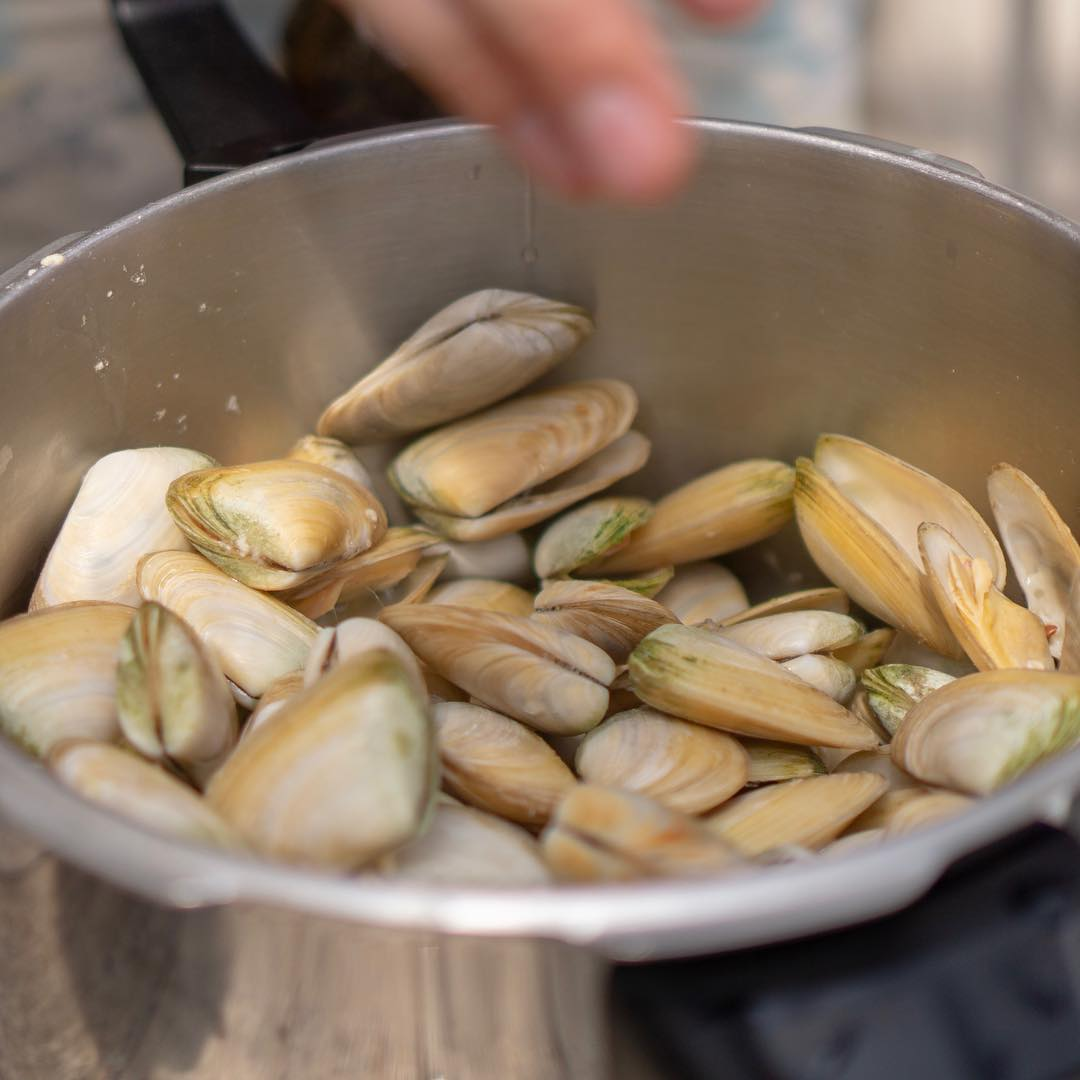tuatua: (309, 285, 601, 437), (383, 374, 650, 529), (373, 591, 618, 733), (625, 618, 881, 753), (26, 439, 222, 613), (163, 454, 393, 594), (136, 543, 322, 705), (580, 456, 797, 571), (577, 701, 755, 806)
